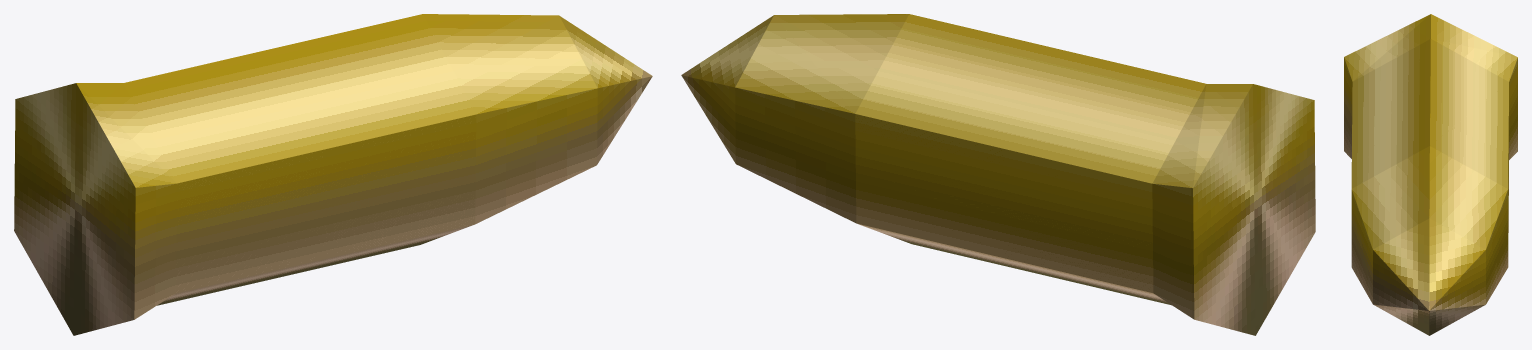
Rendered from BulletVer.obj.
3 renders of one model, left to right at view 1: azimuth 30°, elevation 25°; view 2: azimuth 150°, elevation 25°; view 3: azimuth 270°, elevation 25°, orthographic. The views are drawn at different scales.
Size of the model in its own units: 3.71 by 1.55 by 1.35.
Materials: 1 (1 with a texture image).
